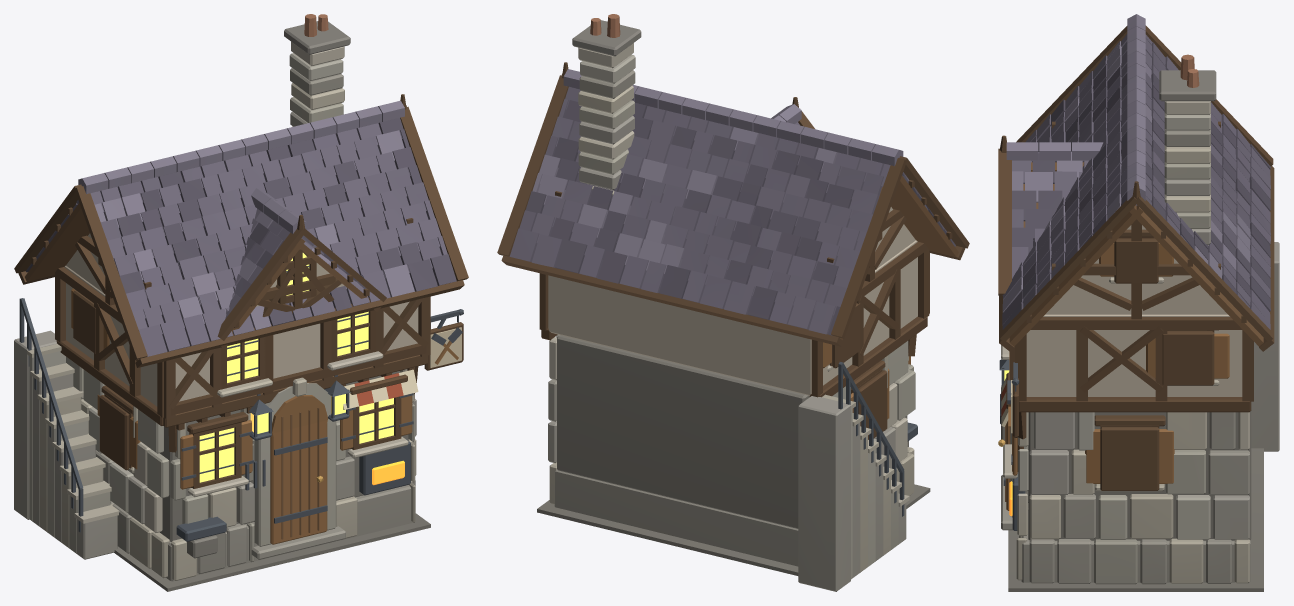
Rendered from workshop.glb.
The picture shows the model from 3 angles, left to right: view 1: azimuth 30°, elevation 25°; view 2: azimuth 150°, elevation 25°; view 3: azimuth 270°, elevation 25°; orthographic projection. The views are drawn at different scales.
Parts seen in each view (by area): view 1: Roof_HV_workshop_slate, Structure_HV_timber, Roof_HV_timber, Roof_HV_workshop_slate_light, Roof_HV_workshop_slate_dark, Facade_HV_timber, Facade_HV_door, Facade_HV_iron, Facade_HV_stone0, Facade_HV_stone2, Structure_HV_stone0, Facade_HV_stone1 (+14 smaller); view 2: Structure_HV_stone_dark, Roof_HV_workshop_slate, Structure_HV_workshop_plaster, Roof_HV_workshop_slate_dark, Facade_HV_stone0, Roof_HV_workshop_slate_light, Structure_HV_stone0, Roof_HV_timber, Structure_HV_timber, Roof_HV_stone1, Facade_HV_timber, Roof_HV_stone2 (+8 smaller); view 3: Roof_HV_workshop_slate, Structure_HV_stone0, Structure_HV_timber, Structure_HV_workshop_plaster, Facade_HV_timber, Roof_HV_workshop_slate_dark, Roof_HV_timber, Structure_HV_stone2, Roof_HV_workshop_slate_light, Structure_HV_stone1, Structure_HV_stone_dark, Facade_HV_stone0 (+9 smaller).
Boxes of the visible parts, left/top/right/bottom form: Roof_HV_workshop_slate: left=36, top=123, right=447, bottom=356; Structure_HV_timber: left=55, top=218, right=430, bottom=452; Roof_HV_timber: left=14, top=94, right=468, bottom=367; Roof_HV_workshop_slate_light: left=78, top=100, right=414, bottom=330; Roof_HV_workshop_slate_dark: left=26, top=118, right=456, bottom=326; Facade_HV_timber: left=73, top=251, right=463, bottom=488; Facade_HV_door: left=71, top=288, right=458, bottom=544; Facade_HV_iron: left=19, top=265, right=463, bottom=541; Facade_HV_stone0: left=14, top=330, right=345, bottom=559; Facade_HV_stone2: left=27, top=344, right=408, bottom=547; Structure_HV_stone0: left=96, top=399, right=416, bottom=581; Facade_HV_stone1: left=29, top=351, right=336, bottom=553; Structure_HV_stone_dark: left=537, top=335, right=930, bottom=575; Roof_HV_workshop_slate: left=509, top=87, right=955, bottom=334; Structure_HV_workshop_plaster: left=548, top=207, right=917, bottom=395; Roof_HV_workshop_slate_dark: left=526, top=100, right=933, bottom=335; Facade_HV_stone0: left=798, top=396, right=906, bottom=591; Roof_HV_workshop_slate_light: left=532, top=69, right=909, bottom=273; Structure_HV_stone0: left=548, top=334, right=895, bottom=566; Roof_HV_timber: left=497, top=62, right=969, bottom=346; Structure_HV_timber: left=539, top=191, right=929, bottom=397; Roof_HV_stone1: left=578, top=54, right=635, bottom=174; Facade_HV_timber: left=829, top=231, right=887, bottom=439; Roof_HV_stone2: left=578, top=43, right=634, bottom=195; Roof_HV_workshop_slate: left=1002, top=34, right=1270, bottom=329; Structure_HV_stone0: left=1021, top=412, right=1250, bottom=584; Structure_HV_timber: left=1009, top=121, right=1253, bottom=439; Structure_HV_workshop_plaster: left=1026, top=225, right=1242, bottom=396; Facade_HV_timber: left=1006, top=229, right=1218, bottom=490; Roof_HV_workshop_slate_dark: left=1002, top=65, right=1270, bottom=329; Roof_HV_timber: left=998, top=25, right=1274, bottom=351; Structure_HV_stone2: left=1016, top=412, right=1249, bottom=583; Roof_HV_workshop_slate_light: left=1002, top=14, right=1250, bottom=312; Structure_HV_stone1: left=1018, top=412, right=1210, bottom=584; Structure_HV_stone_dark: left=1008, top=411, right=1263, bottom=591; Facade_HV_stone0: left=1001, top=242, right=1279, bottom=530.
Size of the model in its own units: 4.05 by 5.36 by 2.67.
